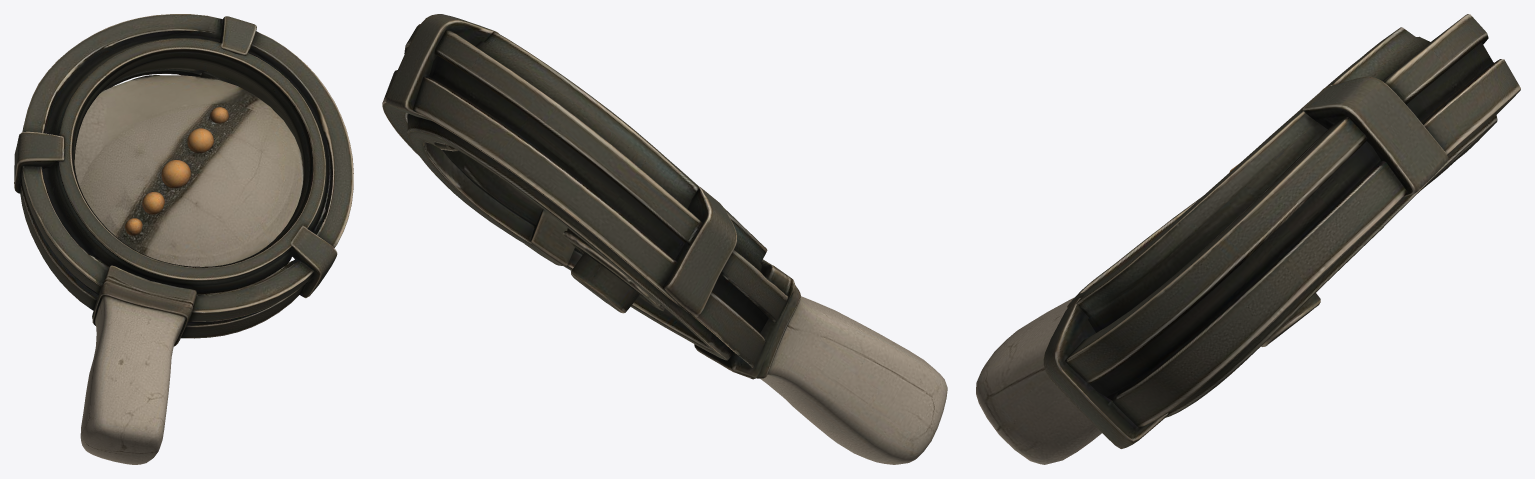
The model's file is provenance-lens.glb.
3 views of the same model, side by side, from view 1: azimuth 30°, elevation 25°; view 2: azimuth 150°, elevation 25°; view 3: azimuth 270°, elevation 25° (orthographic). The views are drawn at different scales.
Parts seen in each view (by area): view 1: ae1f104a_06b5_4899_afff_c2adc30acf8b; view 2: ae1f104a_06b5_4899_afff_c2adc30acf8b; view 3: ae1f104a_06b5_4899_afff_c2adc30acf8b.
Part boxes in pixels (x1=…): ae1f104a_06b5_4899_afff_c2adc30acf8b: x1=14, y1=14, x2=353, y2=464; ae1f104a_06b5_4899_afff_c2adc30acf8b: x1=382, y1=14, x2=947, y2=464; ae1f104a_06b5_4899_afff_c2adc30acf8b: x1=976, y1=14, x2=1520, y2=464.
Size of the model in its own units: 0.981 by 0.9995 by 0.9224.
1 material, 1 textured.
